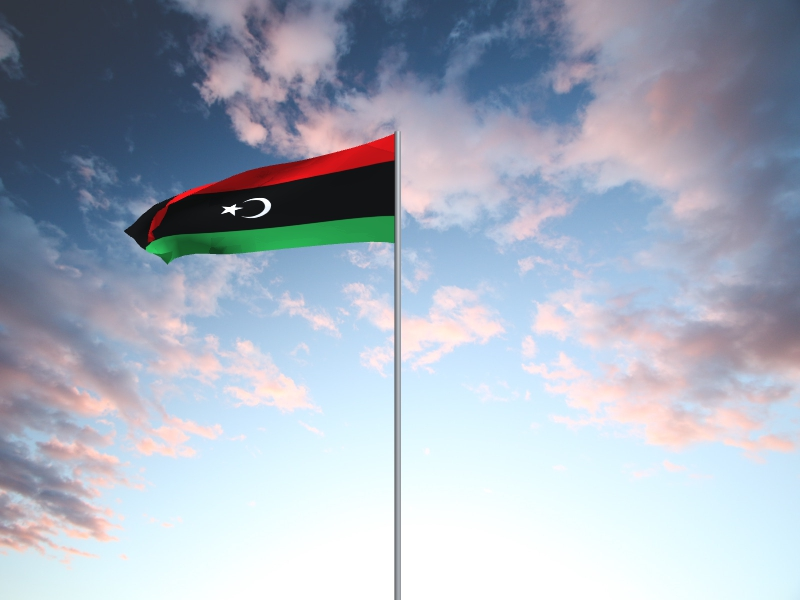ly: (123, 134, 395, 267)
